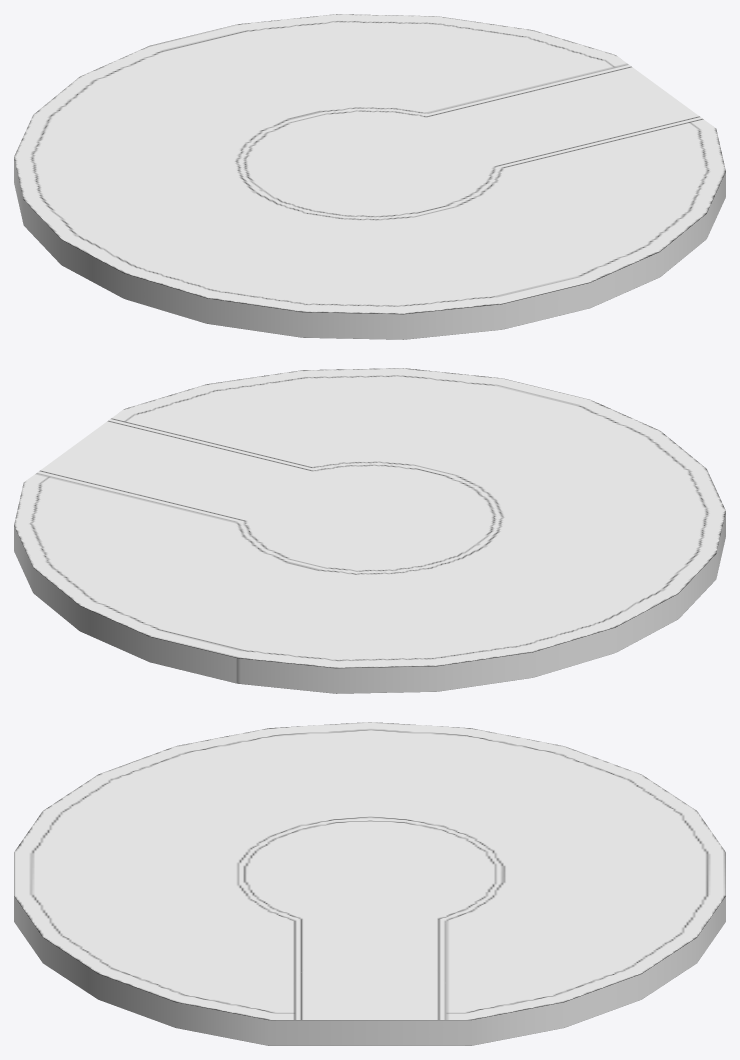
Rendered from clock.fbx.
3 views of the same model, one above another, from view 1: azimuth 30°, elevation 25°; view 2: azimuth 150°, elevation 25°; view 3: azimuth 270°, elevation 25° (orthographic).
Visible parts, largest first — view 1: pCylinder1; view 2: pCylinder1; view 3: pCylinder1.
Boxes of the visible parts, <box> form: pCylinder1: <box>14,14,725,339</box>; pCylinder1: <box>14,368,725,693</box>; pCylinder1: <box>14,722,725,1045</box>.
Bounding box in the file's own units: 49.84 × 2.03 × 50.35.
1 material, 1 textured.
